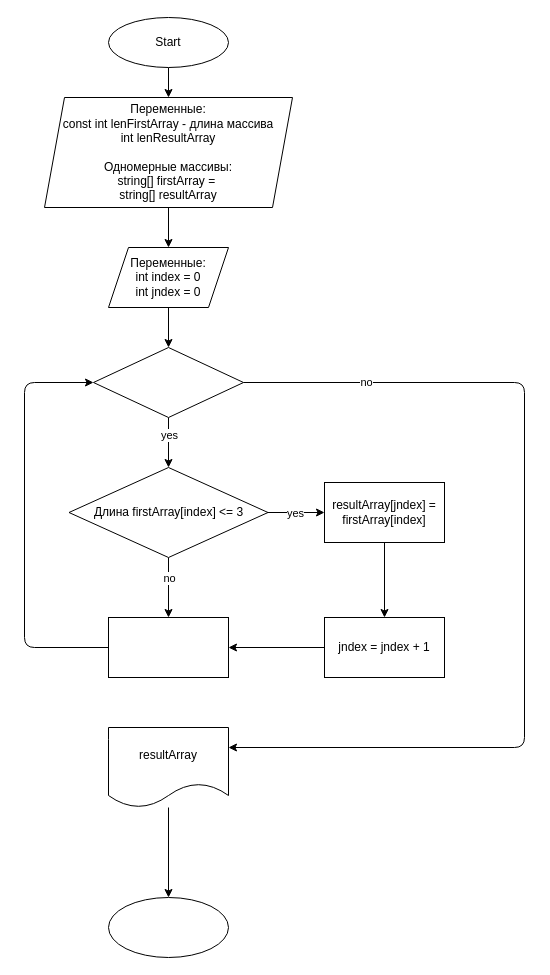
The diagram is 550 pixels wide and 975 high, and some of its shapes have lost their labels. The centre of each missing label's shape, as x and y in pixels:
"Finish" belongs at point (168, 927).
"index < len" belongs at point (168, 382).
"index = index + 1" belongs at point (168, 647).
